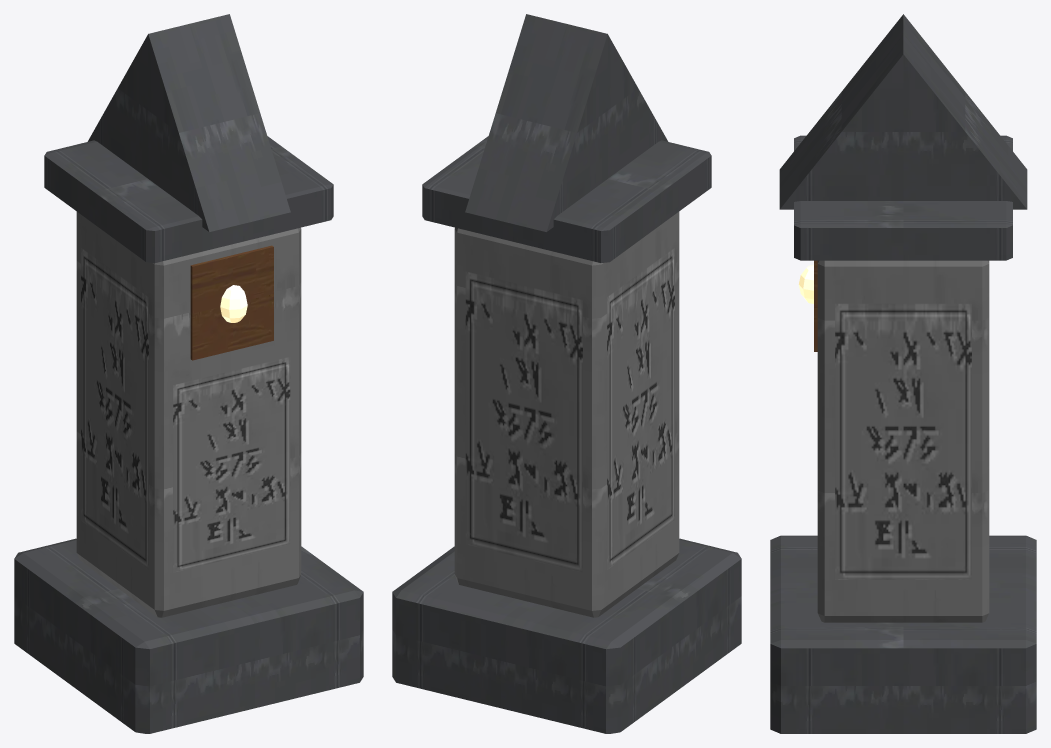
The model's file is sign4.glb.
The picture shows the model from 3 angles, left to right: view 1: azimuth 30°, elevation 25°; view 2: azimuth 150°, elevation 25°; view 3: azimuth 270°, elevation 25°; orthographic projection.
Visible parts, largest first — view 1: box; view 2: box; view 3: box.
Part boxes in pixels (bbox=[...]): box: bbox=[14, 14, 363, 733]; box: bbox=[392, 14, 741, 733]; box: bbox=[770, 14, 1036, 733].
Bounding box in the file's own units: 0.6925 × 1.85 × 0.6925.
8 materials, 7 textured.
